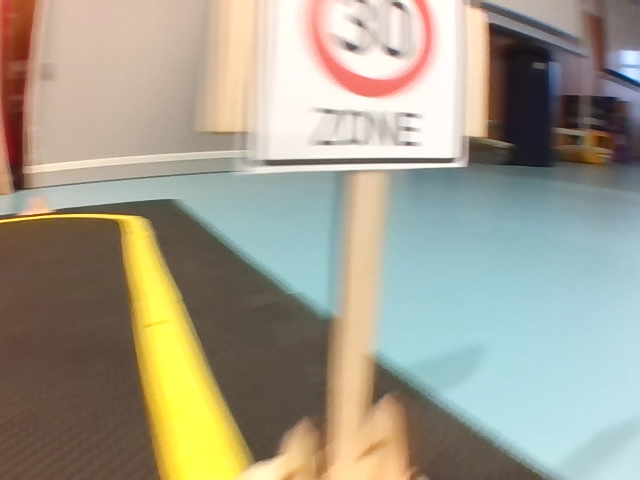30: (450, 104, 487, 140)
stop: (298, 108, 313, 141), (86, 118, 98, 144)
